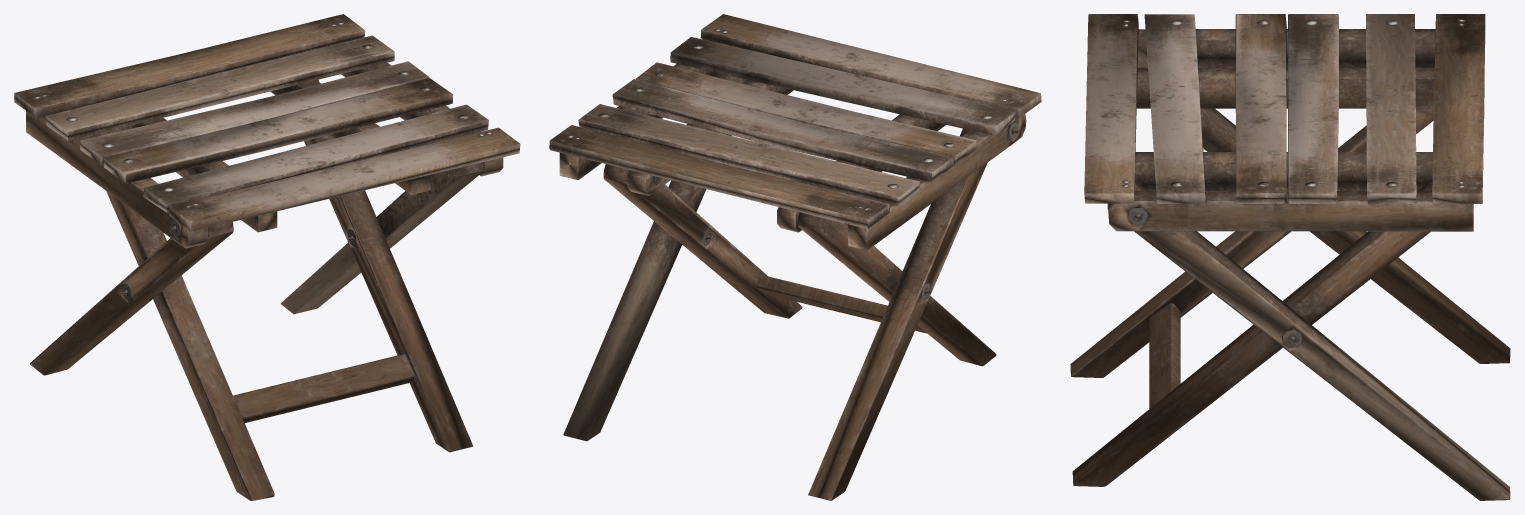
Rendered from folding_wooden_stool.glb.
The picture shows the model from 3 angles, left to right: view 1: azimuth 30°, elevation 25°; view 2: azimuth 150°, elevation 25°; view 3: azimuth 270°, elevation 25°; orthographic projection. The views are drawn at different scales.
Visible parts, largest first — view 1: folding_wooden_stool; view 2: folding_wooden_stool; view 3: folding_wooden_stool.
Boxes of the visible parts, x1,y1,x2,y2 form: folding_wooden_stool: (14,14,520,500); folding_wooden_stool: (549,14,1041,500); folding_wooden_stool: (1070,14,1510,500).
Size of the model in its own units: 0.527 by 0.4401 by 0.5443.
Materials: 1 (1 with a texture image).
